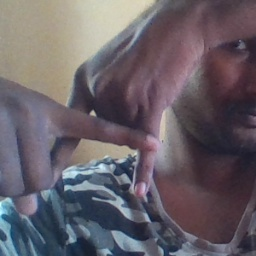H: (42, 68, 162, 200)
